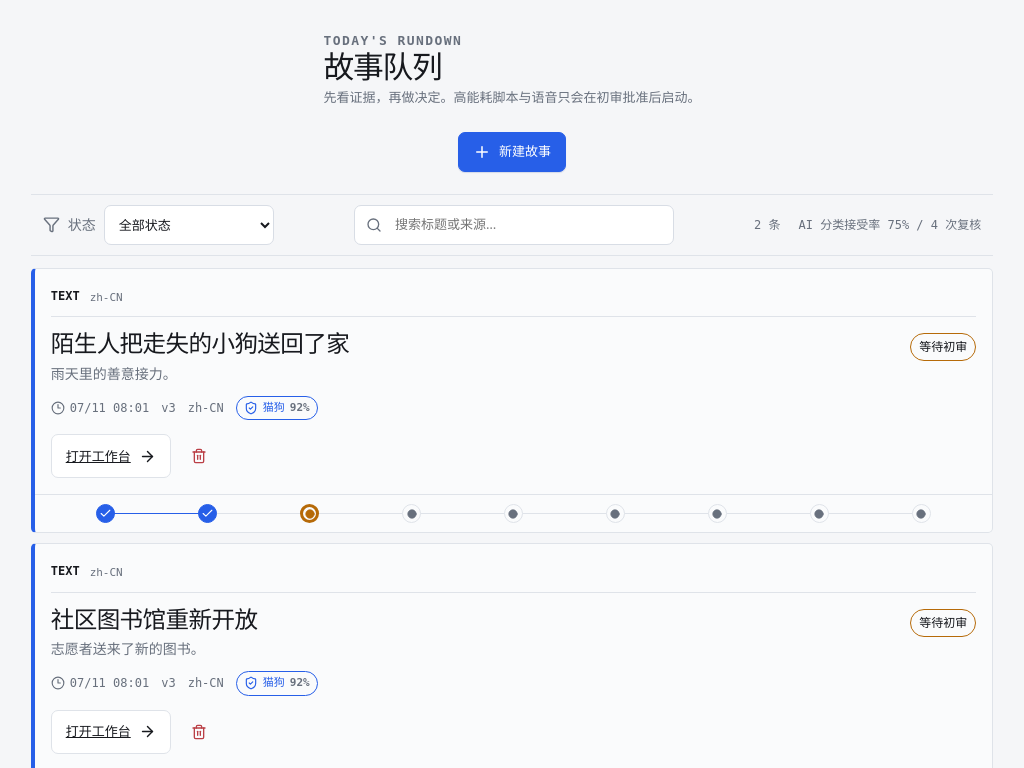
StoryListPage › filters the loaded queue by title, source URL, and summary
The image size is (1024, 768).
Expected: the heading "社区图书馆重新开放" is shown, [51,607,257,632]
Type "志愿者" into the search field named "搜索故事".
click(514, 225); type("志愿者")  # box [354,205,674,245]
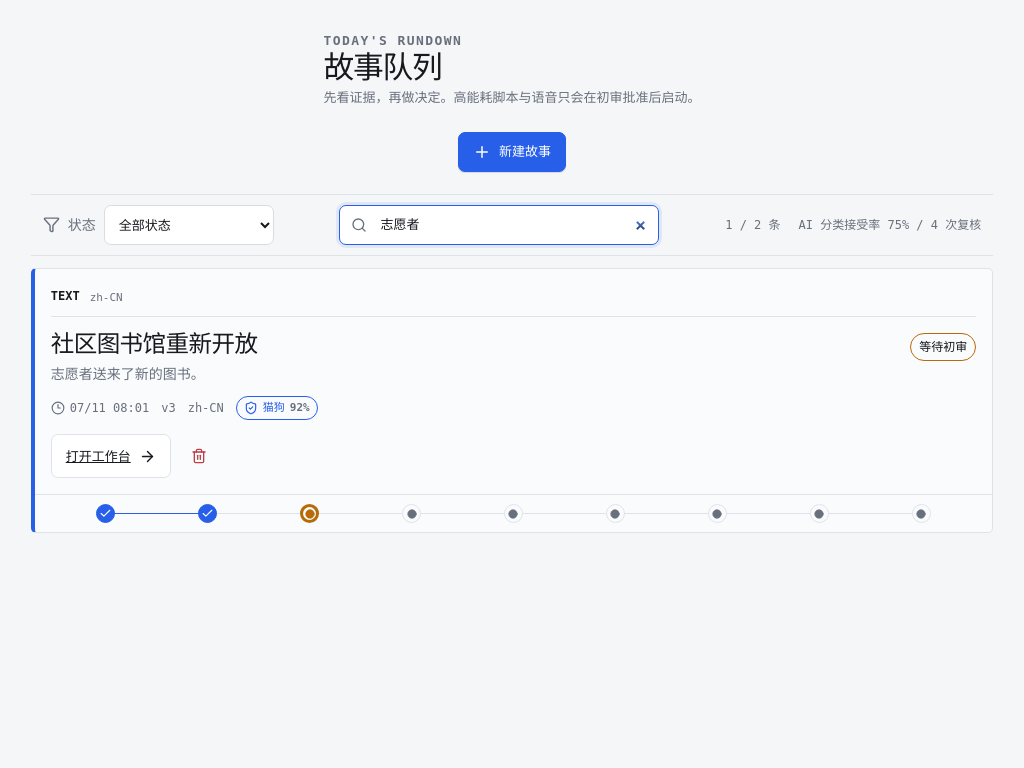
Expected: the heading "社区图书馆重新开放" is shown, [51,331,257,357]
Result: the heading "陌生人把走失的小狗送回了家" is gone
Result: the text "1 / 2 条" is shown at [725,216,781,234]
